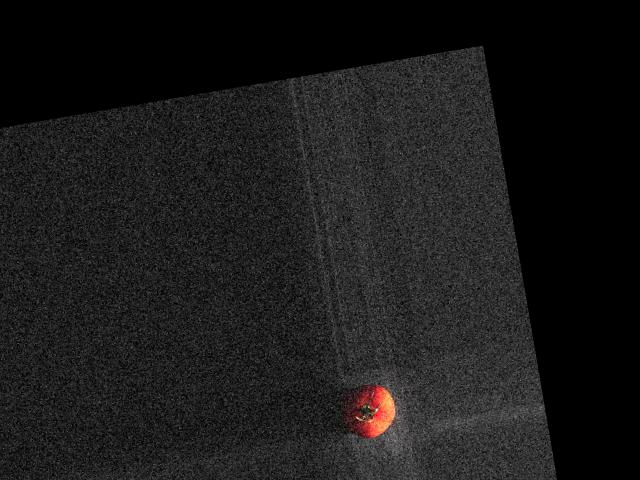tomato: (338, 381, 399, 441)
